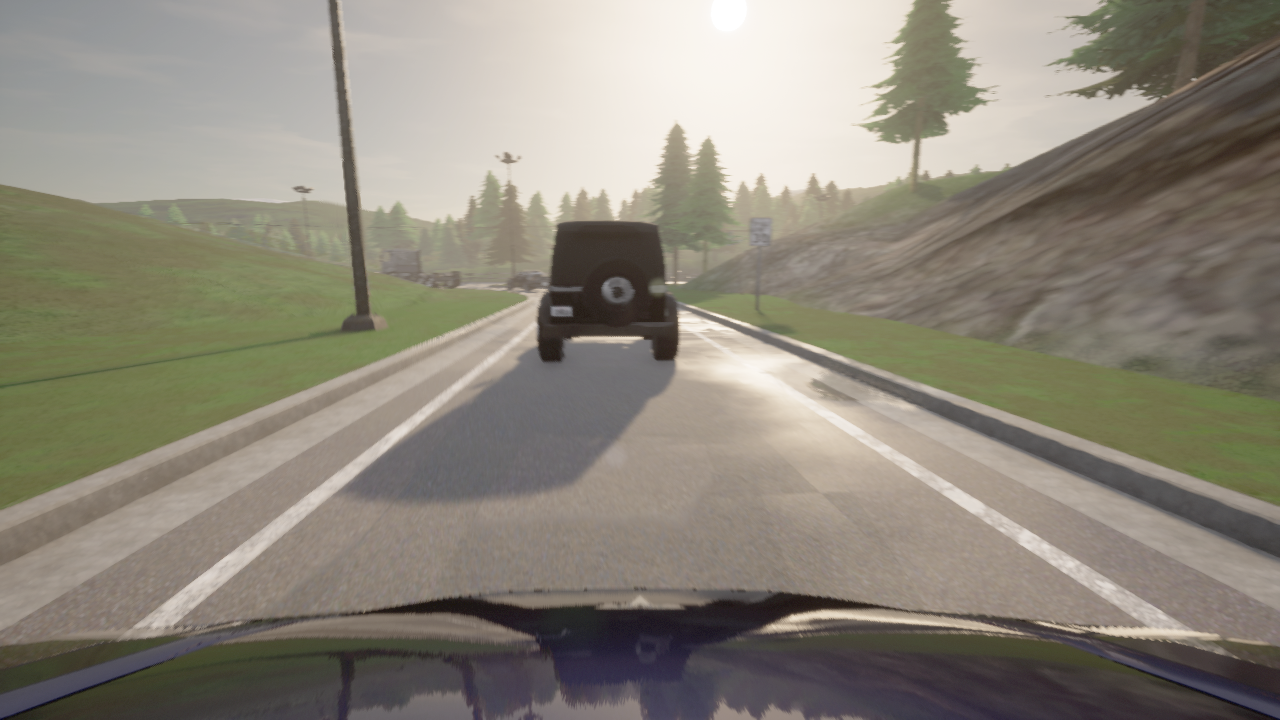cyclist: (0, 588, 1279, 719), (537, 221, 678, 361), (380, 248, 464, 286), (506, 270, 550, 291)
